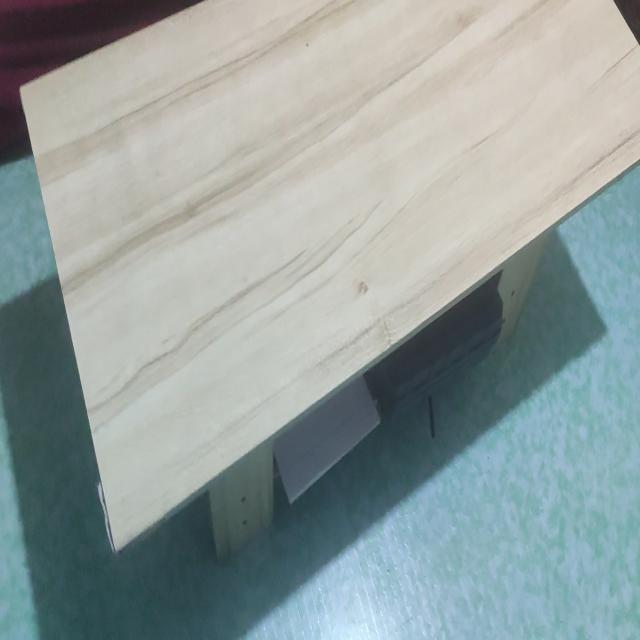table: (17, 0, 640, 565)
